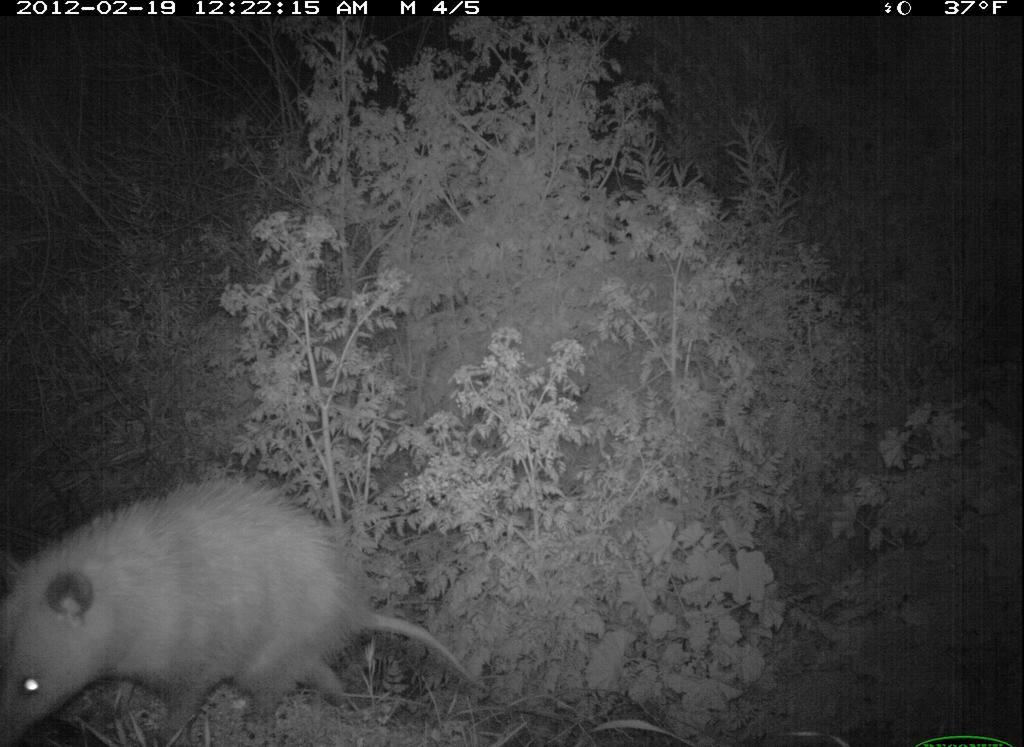opossum: (3, 469, 483, 747)
